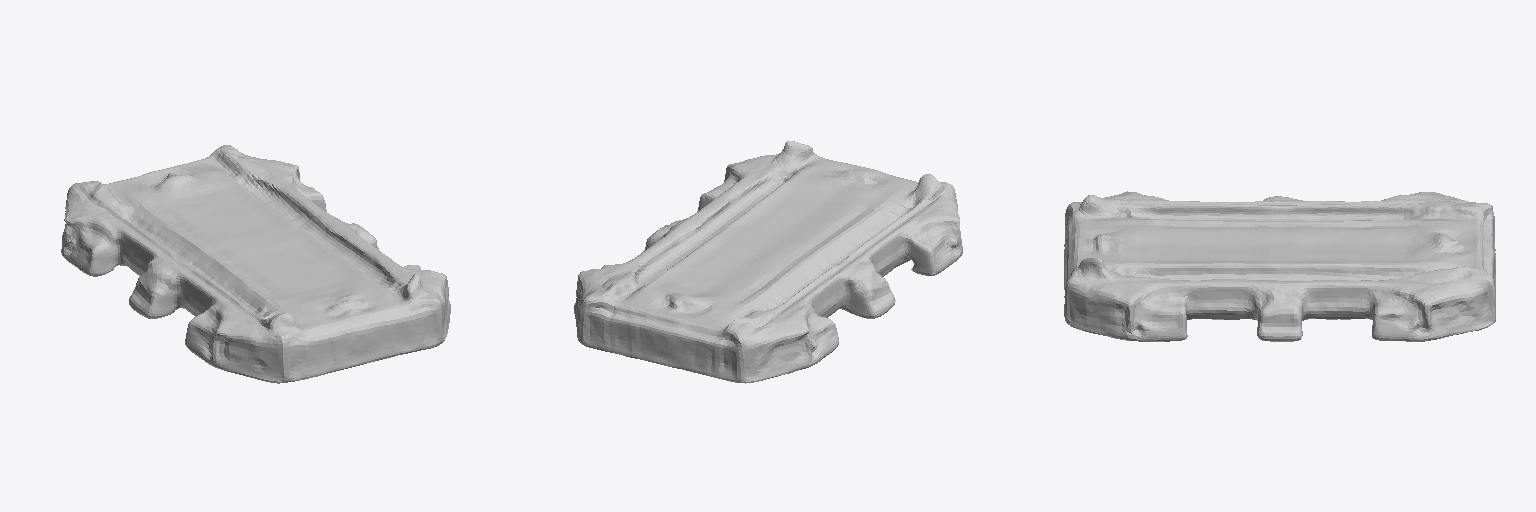
The model's file is 083e93fdfb12_Sci_fi_millitary_pl.obj.
3 views of the same model, side by side, from view 1: azimuth 30°, elevation 25°; view 2: azimuth 150°, elevation 25°; view 3: azimuth 270°, elevation 25° (orthographic).
Parts seen in each view (by area): view 1: mesh; view 2: mesh; view 3: mesh.
Boxes of the visible parts, <box> form: mesh: <box>61,145,450,383</box>; mesh: <box>574,141,962,383</box>; mesh: <box>1064,191,1495,341</box>.
Size of the model in its own units: 0.6422 by 0.1604 by 0.9991.